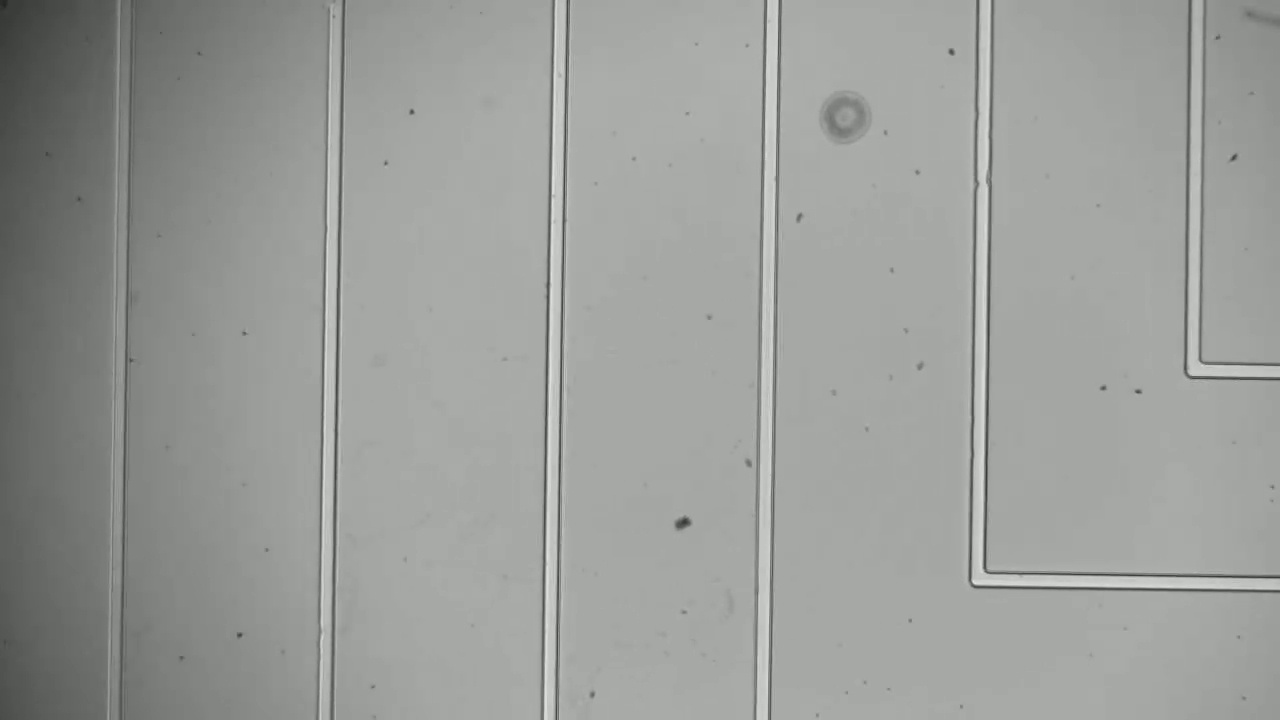edge_bite: (963, 160, 998, 205)
